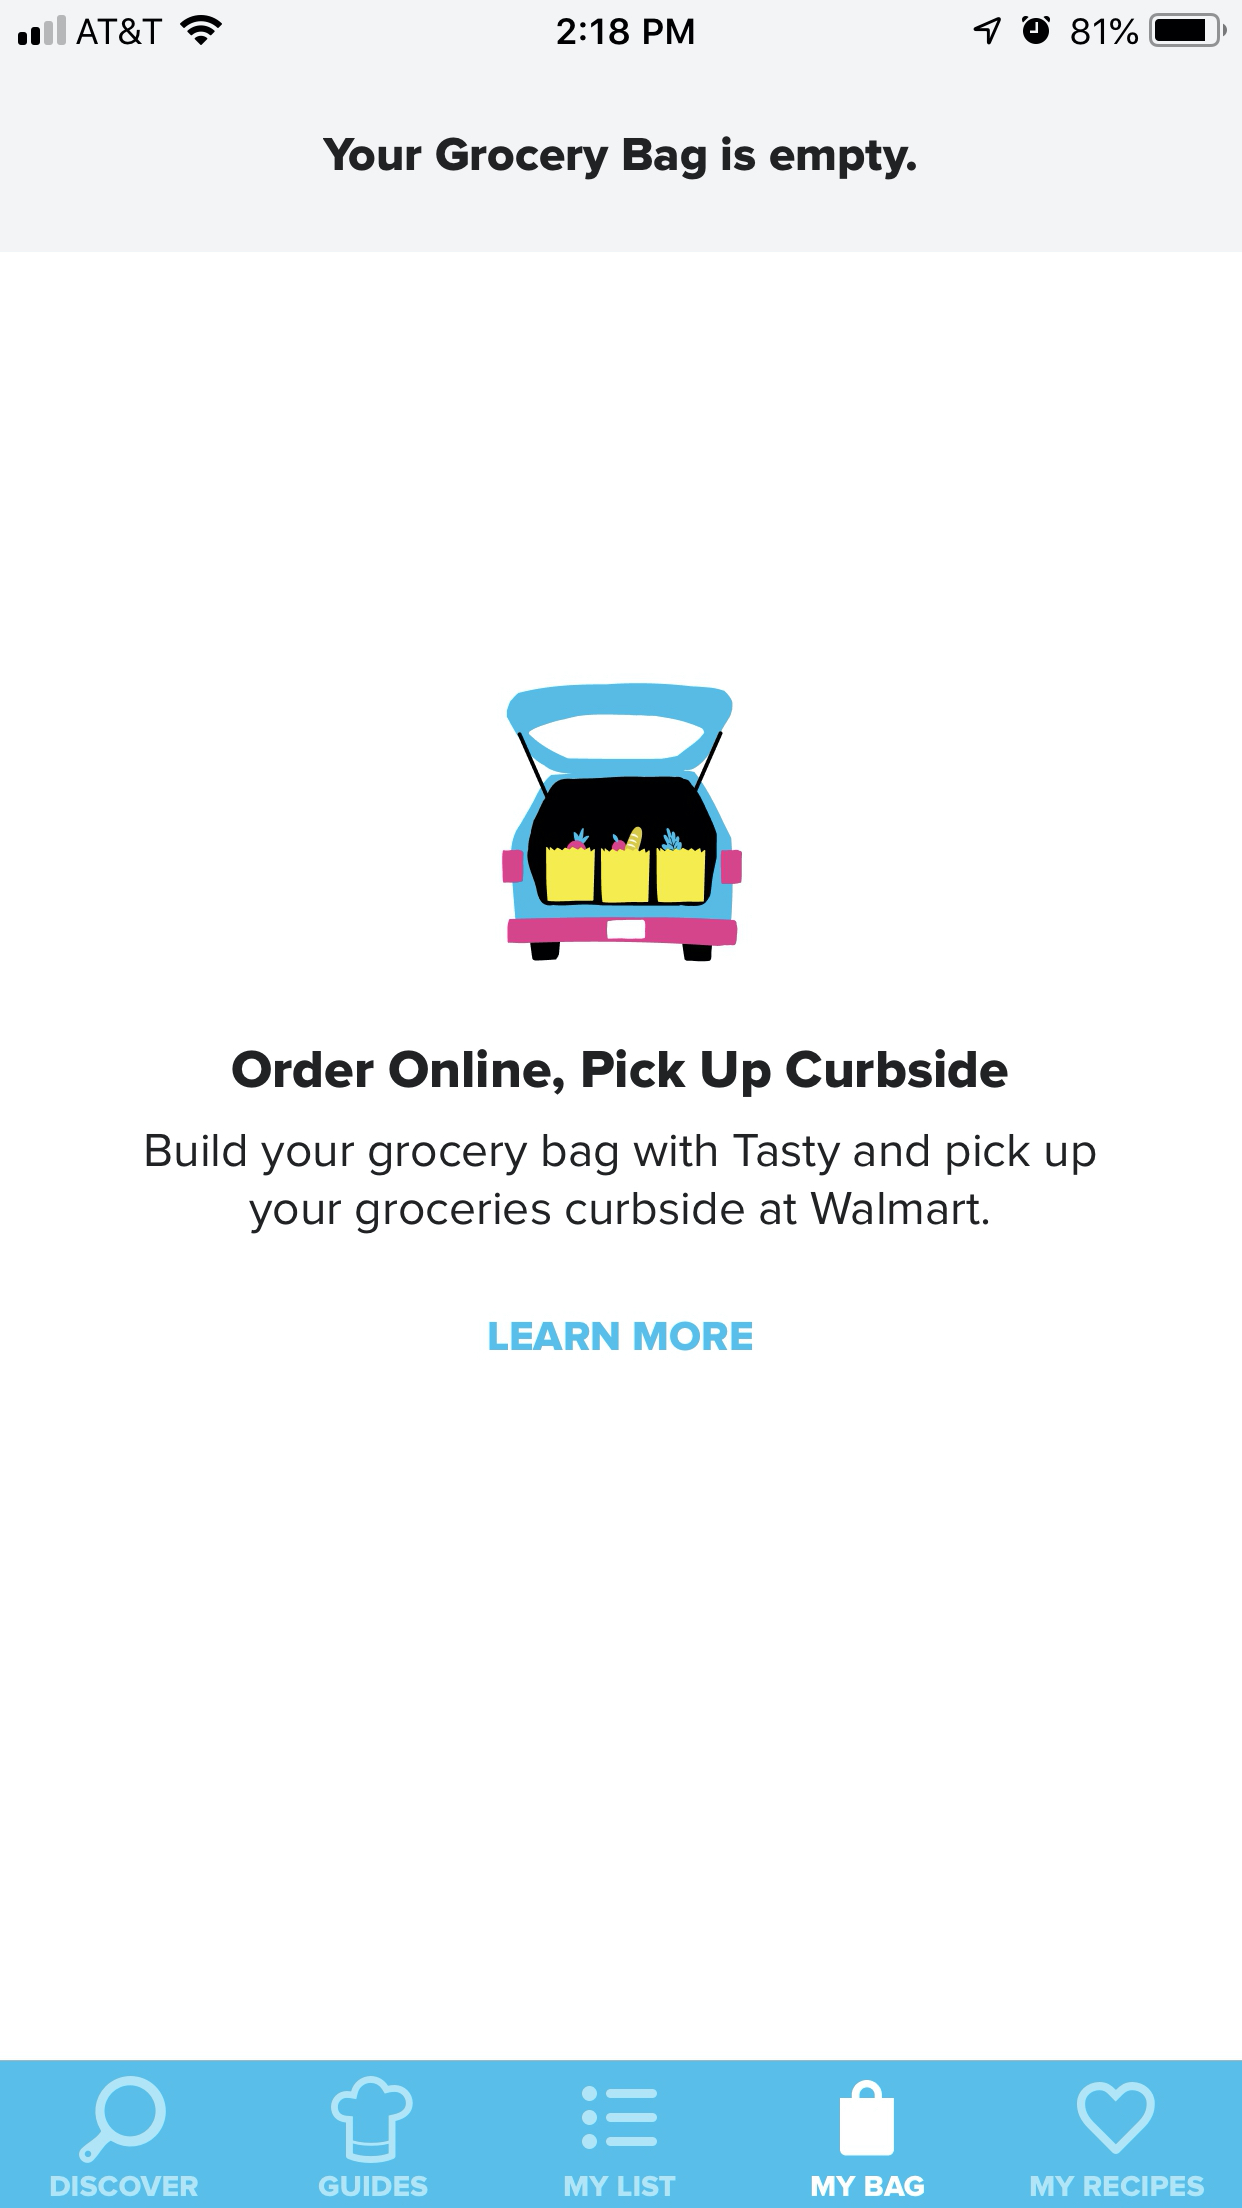Icon: (79, 2075, 168, 2164), (1077, 2081, 1156, 2155), (581, 2085, 658, 2150), (839, 2079, 895, 2156)
Image: (500, 682, 743, 961), (331, 2075, 414, 2164)
Text: (146, 1133, 1096, 1234), (232, 1048, 1008, 1098), (323, 136, 917, 180), (488, 1321, 754, 1353), (1030, 2175, 1206, 2197), (52, 2175, 200, 2197), (811, 2175, 925, 2197), (564, 2175, 676, 2197), (318, 2175, 429, 2197)
UpperTaskBar: (2, 2, 1242, 49)
